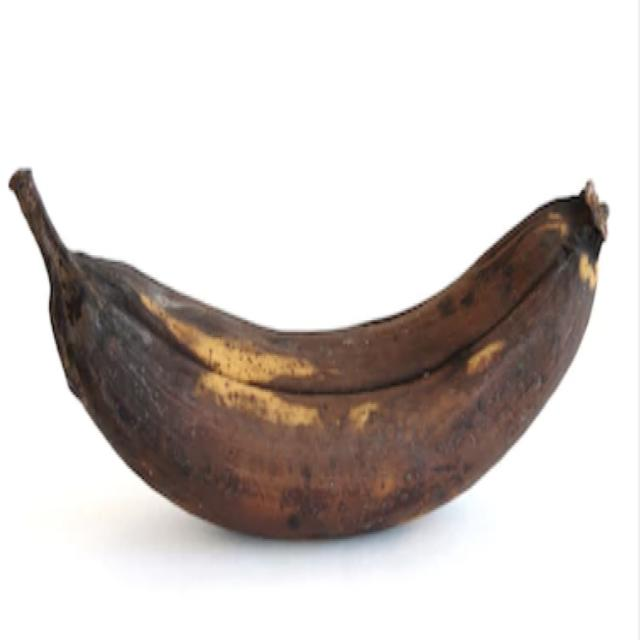rotten-banana: (7, 162, 610, 540)
